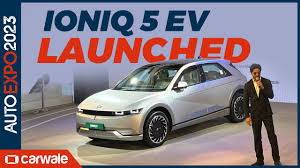Honda Ioniq: (70, 57, 249, 149)
